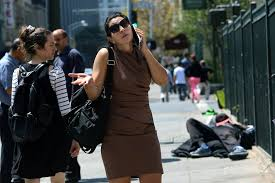no-mask: (19, 24, 59, 68), (104, 12, 136, 48), (50, 22, 70, 55)
